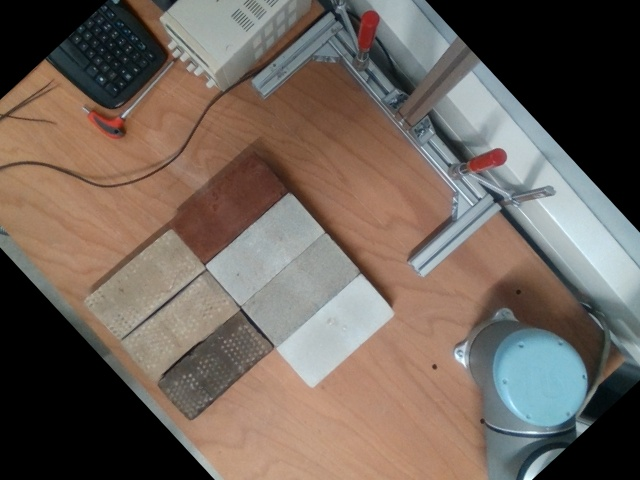brick: (239, 232, 360, 346), (84, 226, 204, 340), (205, 191, 324, 304), (277, 275, 394, 386), (121, 269, 238, 379), (155, 310, 272, 420), (172, 154, 285, 261)
